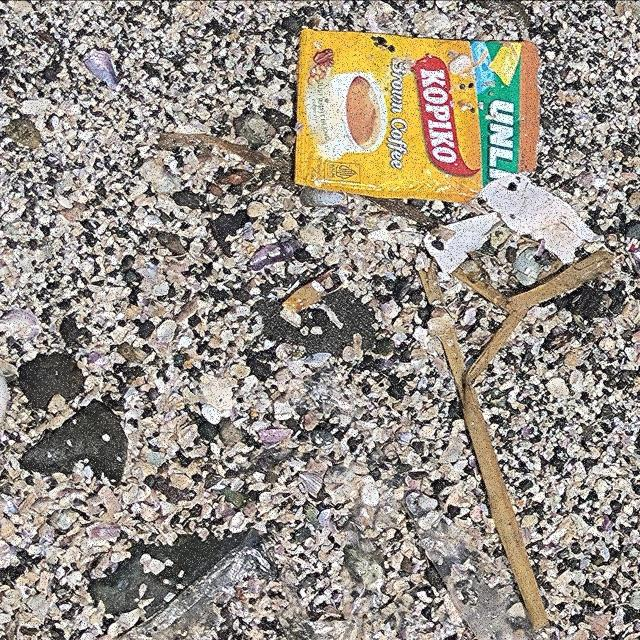plastic_waste: (294, 29, 542, 205)
